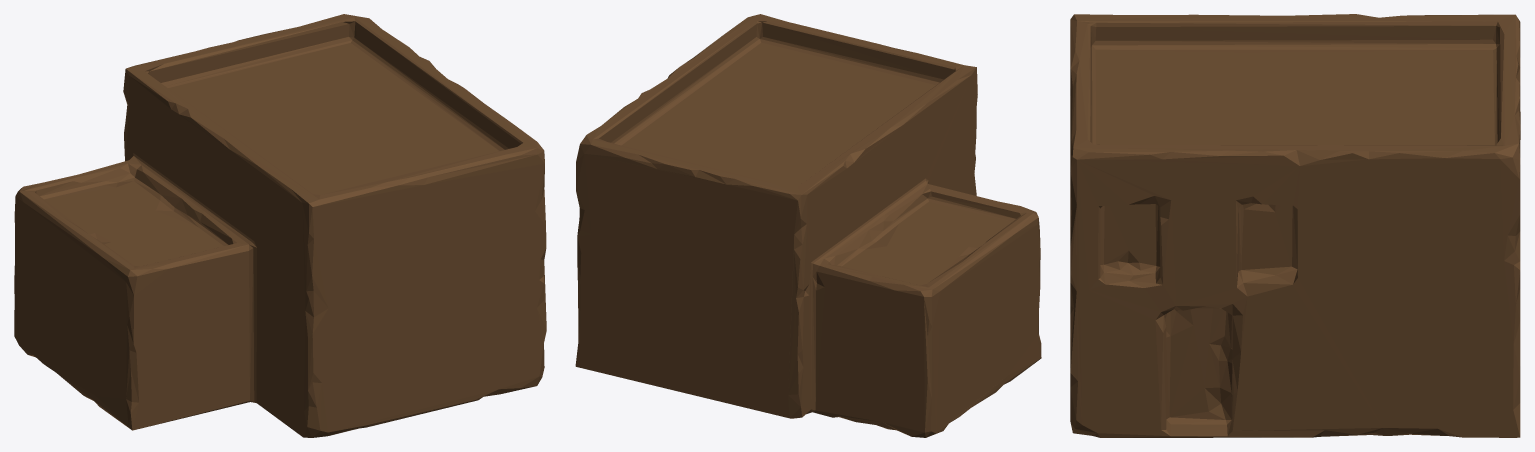
Rendered from SM_small_house_03.fbx.
3 renders of one model, left to right at view 1: azimuth 30°, elevation 25°; view 2: azimuth 150°, elevation 25°; view 3: azimuth 270°, elevation 25°, orthographic. The views are drawn at different scales.
Visible parts, largest first — view 1: small_house_03; view 2: small_house_03; view 3: small_house_03.
Part boxes in pixels (x1,y1,x2,y2): small_house_03: [14, 14, 546, 437]; small_house_03: [575, 14, 1041, 437]; small_house_03: [1070, 14, 1520, 437].
Bounding box in the file's own units: 897 × 566 × 809.
